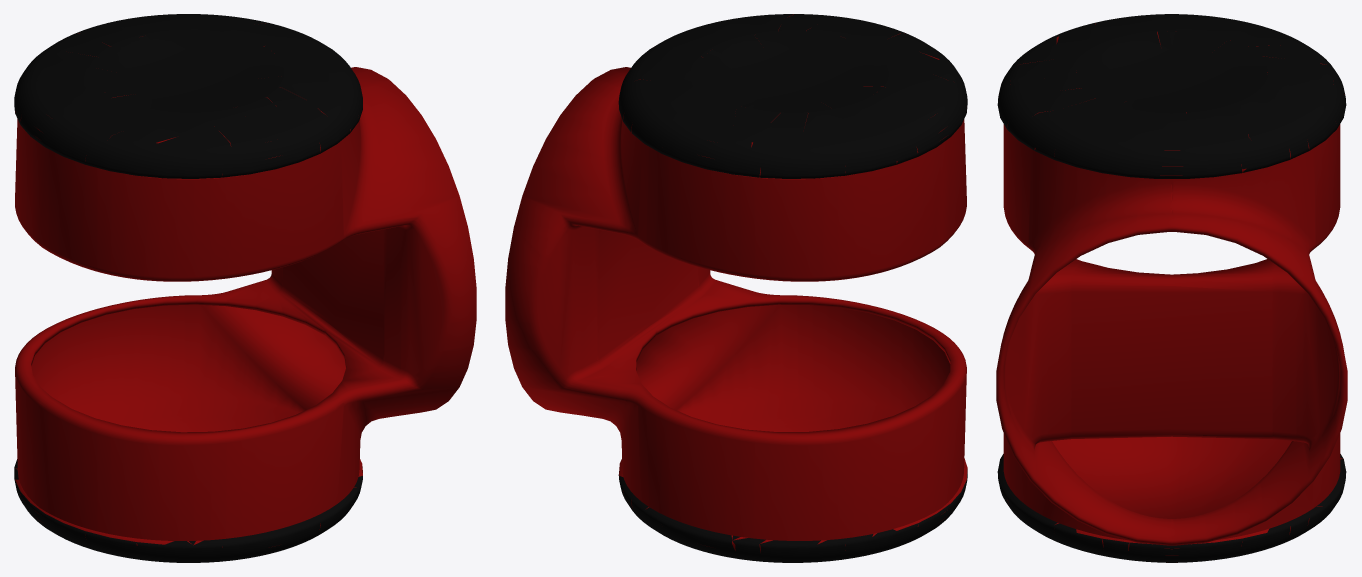
3 renders of one model, left to right at view 1: azimuth 30°, elevation 25°; view 2: azimuth 150°, elevation 25°; view 3: azimuth 270°, elevation 25°, orthographic.
Visible parts, largest first — view 1: E1; view 2: E1; view 3: E1.
Boxes of the visible parts, x1,y1,x2,y2 form: E1: (14, 14, 476, 562); E1: (505, 14, 967, 562); E1: (996, 14, 1347, 562).
Bounding box in the file's own units: 0.1608 × 0.1394 × 0.1893.
